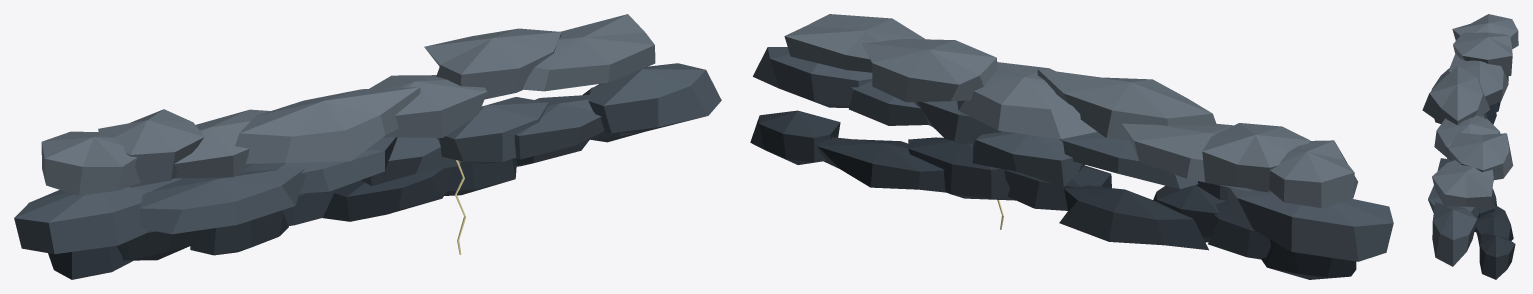
The model's file is W2_Far_StormClouds.fbx.
The picture shows the model from 3 angles, left to right: view 1: azimuth 30°, elevation 25°; view 2: azimuth 150°, elevation 25°; view 3: azimuth 270°, elevation 25°; orthographic projection. The views are drawn at different scales.
Visible parts, largest first — view 1: W2_Far_StormClouds; view 2: W2_Far_StormClouds; view 3: W2_Far_StormClouds.
Part boxes in pixels (<box>): W2_Far_StormClouds: <box>14,14,721,279</box>; W2_Far_StormClouds: <box>750,14,1393,279</box>; W2_Far_StormClouds: <box>1422,14,1518,279</box>.
Bounding box in the file's own units: 588 × 154 × 112.
